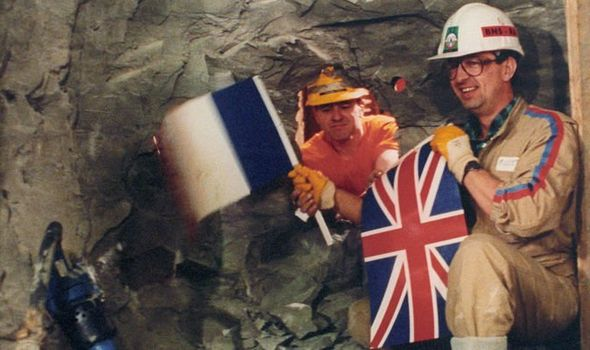hard hat: (425, 3, 524, 61), (303, 65, 370, 104)
